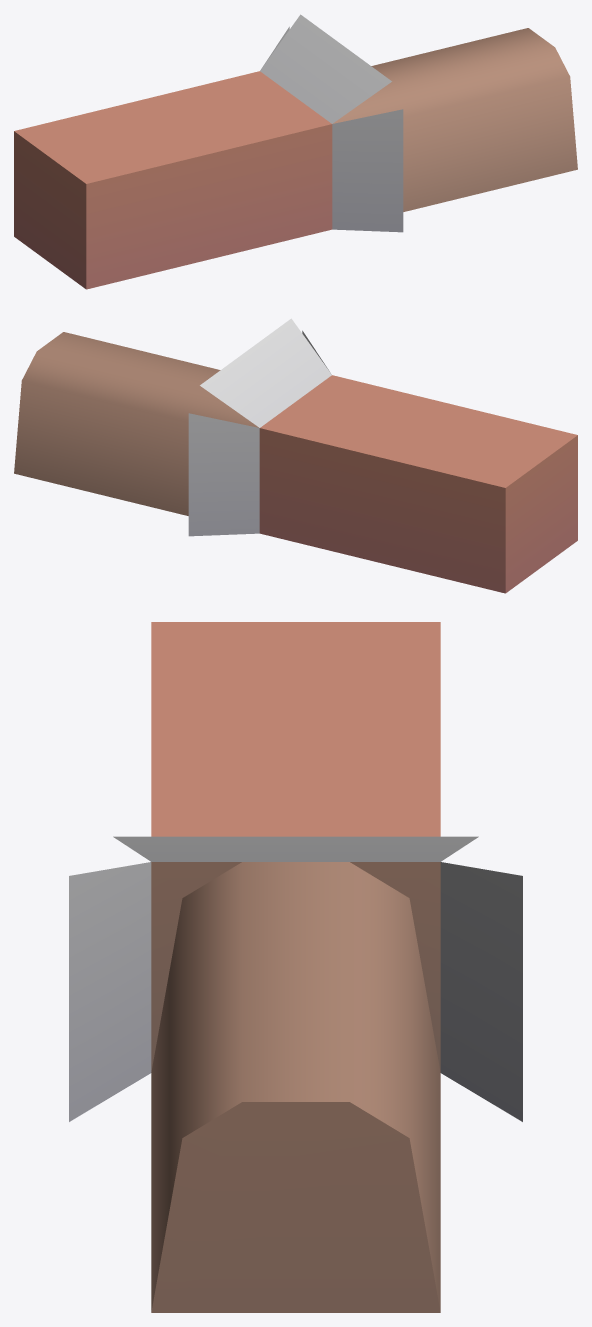
Rendered from candy-bar-wrapper.glb.
3 views of the same model, one above another, from view 1: azimuth 30°, elevation 25°; view 2: azimuth 150°, elevation 25°; view 3: azimuth 270°, elevation 25° (orthographic). The views are drawn at different scales.
Parts seen in each view (by area): view 1: candy-bar-wrapper; view 2: candy-bar-wrapper; view 3: candy-bar-wrapper.
Boxes of the visible parts, bbox=[...] form: candy-bar-wrapper: bbox=[14, 14, 577, 289]; candy-bar-wrapper: bbox=[14, 318, 577, 593]; candy-bar-wrapper: bbox=[69, 622, 522, 1312].
Size of the model in its own units: 0.2924 by 0.0812 by 0.1169.
